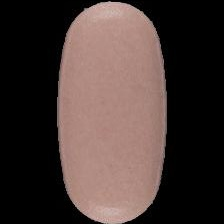0006-0575: (0, 0, 224, 224)
